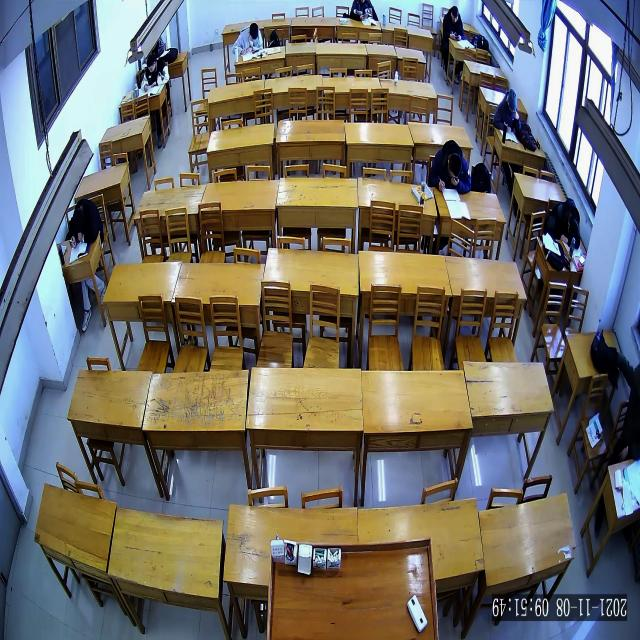bow: (428, 140, 472, 193), (68, 198, 104, 248), (548, 198, 580, 250), (232, 22, 263, 54)
down: (447, 152, 461, 180), (73, 208, 85, 233), (508, 91, 518, 113), (146, 54, 156, 74), (248, 22, 258, 42), (451, 5, 458, 22)
sit: (492, 89, 520, 134), (141, 54, 169, 90), (442, 4, 464, 40)
